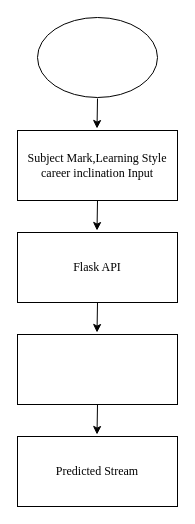
This 195x524 diagram has some shape labels left out. Each missing label, with the centre of its shape:
Random Forest Model: point (97, 369)
User: point (97, 57)
